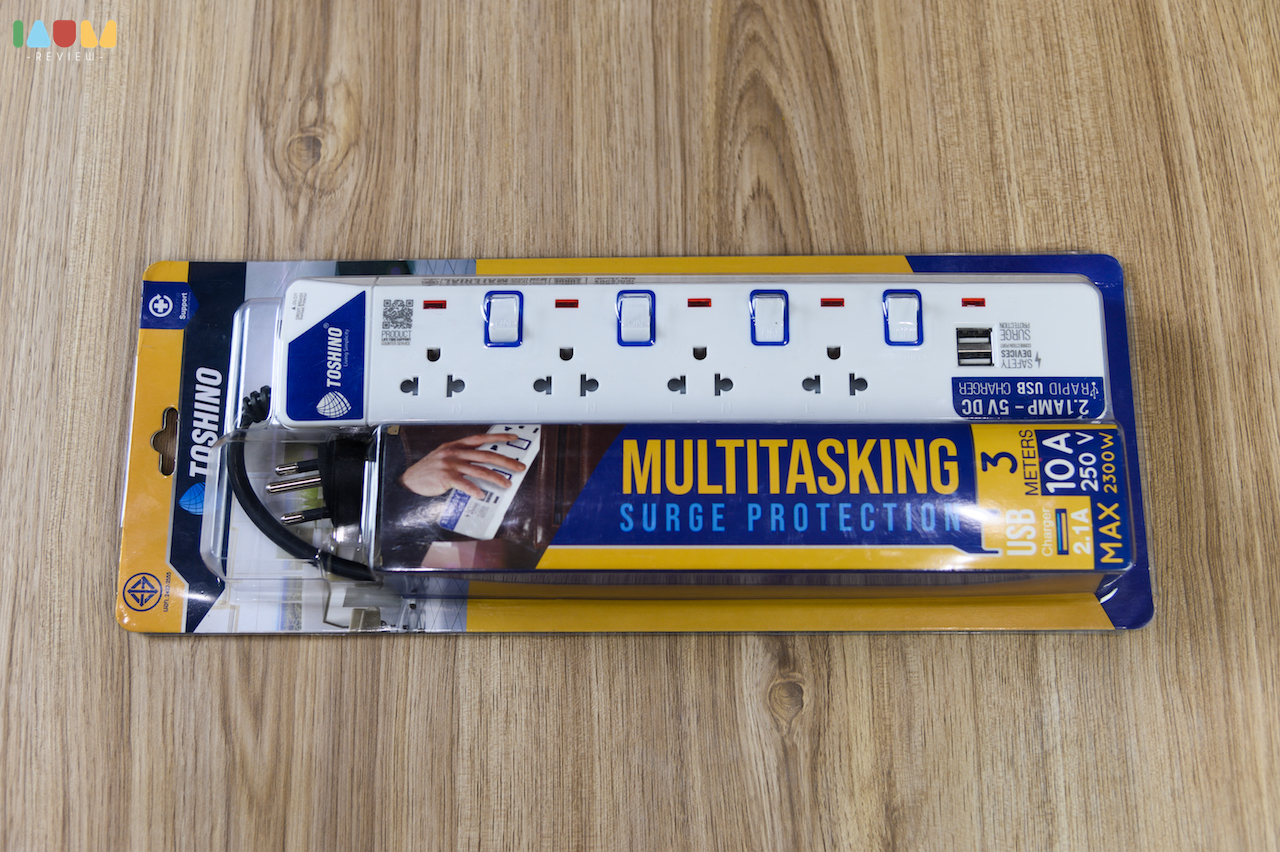Three_eye_plug: (246, 265, 1127, 448)
